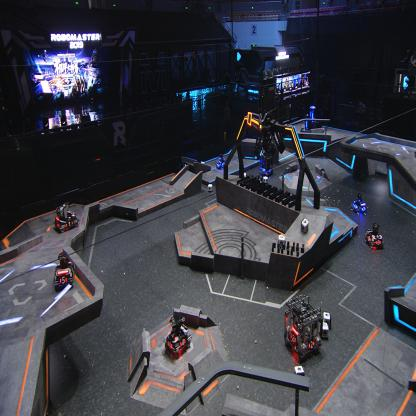car: (284, 294, 322, 361), (164, 311, 192, 358), (53, 249, 75, 290), (53, 201, 79, 233), (364, 223, 384, 250), (258, 148, 274, 176), (351, 191, 368, 214), (215, 152, 227, 169)
